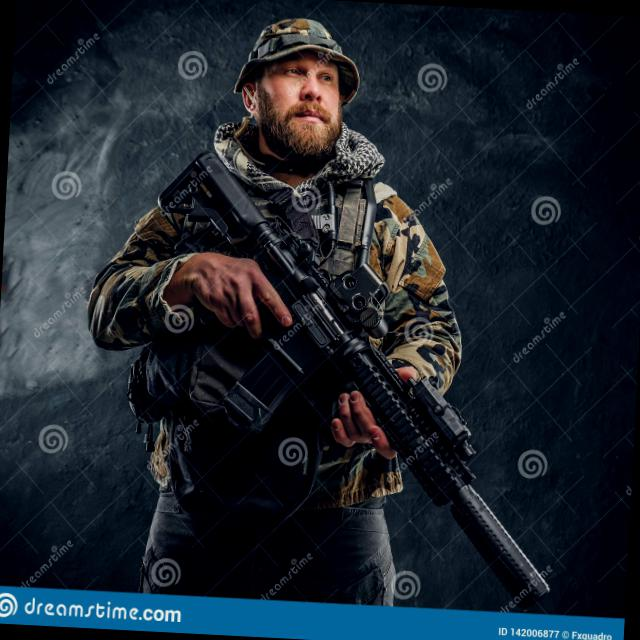long weapon: (135, 126, 601, 623)
